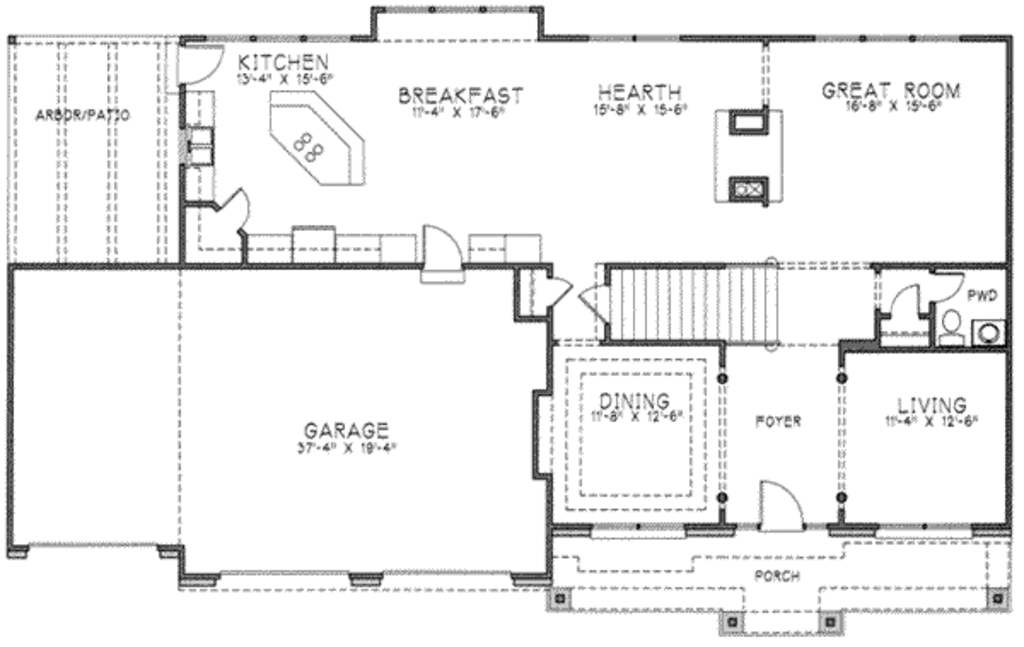door: (754, 482, 815, 540), (412, 221, 465, 285), (168, 43, 234, 91), (200, 180, 258, 229), (882, 277, 922, 326), (541, 273, 577, 323), (584, 272, 614, 324), (930, 268, 962, 305)
kitchen_bar: (268, 77, 366, 198)
large_sink: (937, 299, 966, 348)
small_sink: (970, 317, 1010, 348)
stairs: (595, 263, 798, 349)
twin_sink: (174, 119, 221, 165)
window: (381, 1, 540, 19), (593, 519, 691, 546), (580, 28, 679, 49), (817, 28, 954, 41), (871, 526, 974, 540)
